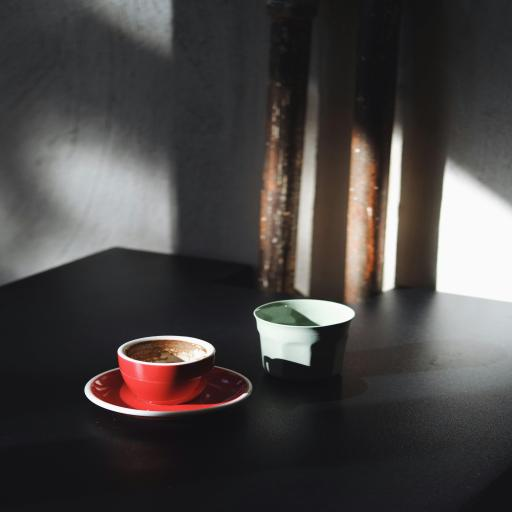cup: (118, 336, 216, 406)
